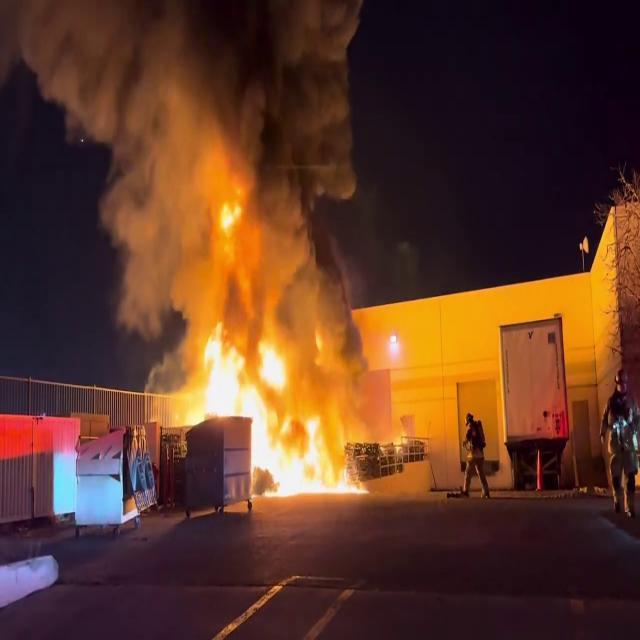Fire: (163, 205, 357, 498)
Smoke: (18, 0, 368, 309)
